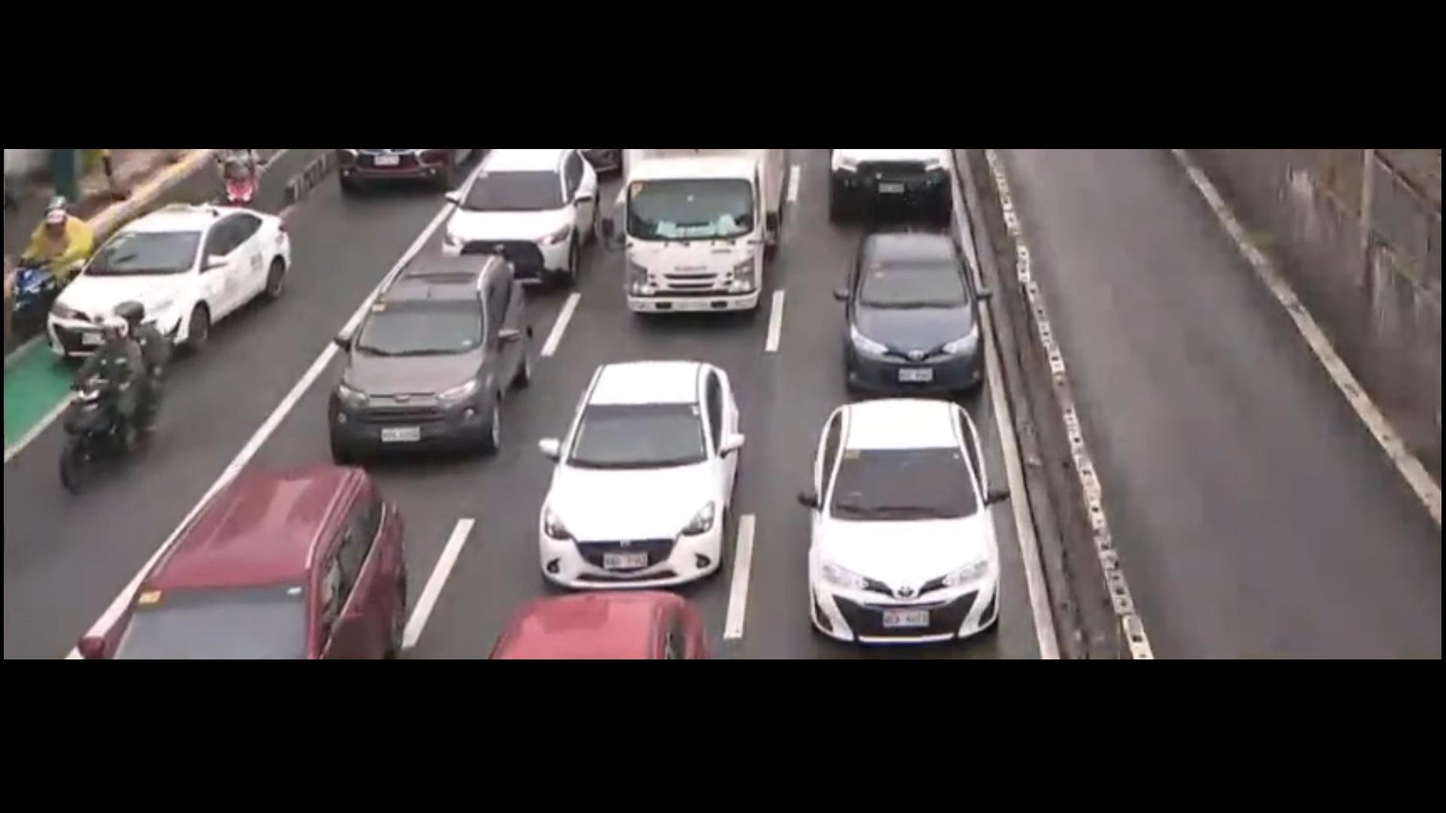Motorcycle: (48, 301, 159, 476), (13, 201, 88, 332)
SUV: (74, 468, 411, 658), (332, 254, 531, 461)
Sedan: (799, 400, 1012, 645), (531, 362, 741, 586), (49, 203, 292, 359), (836, 229, 990, 399), (446, 147, 599, 284), (486, 595, 708, 659)
Truck: (611, 145, 790, 319)
